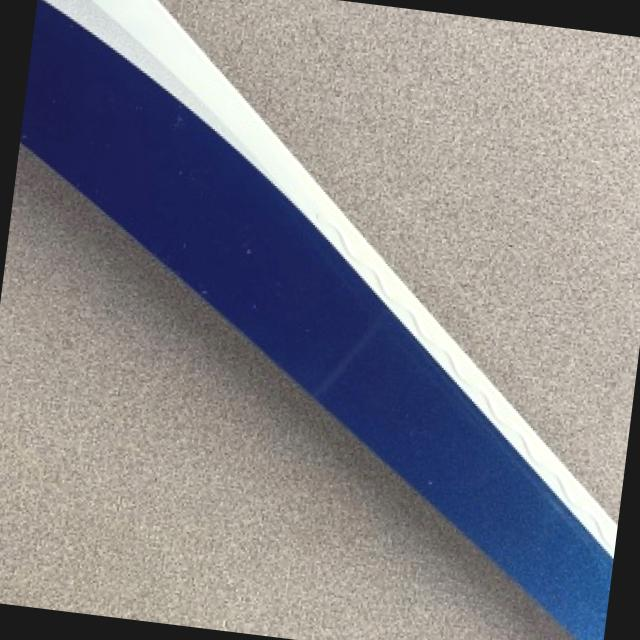healthy: (0, 146, 578, 640)
